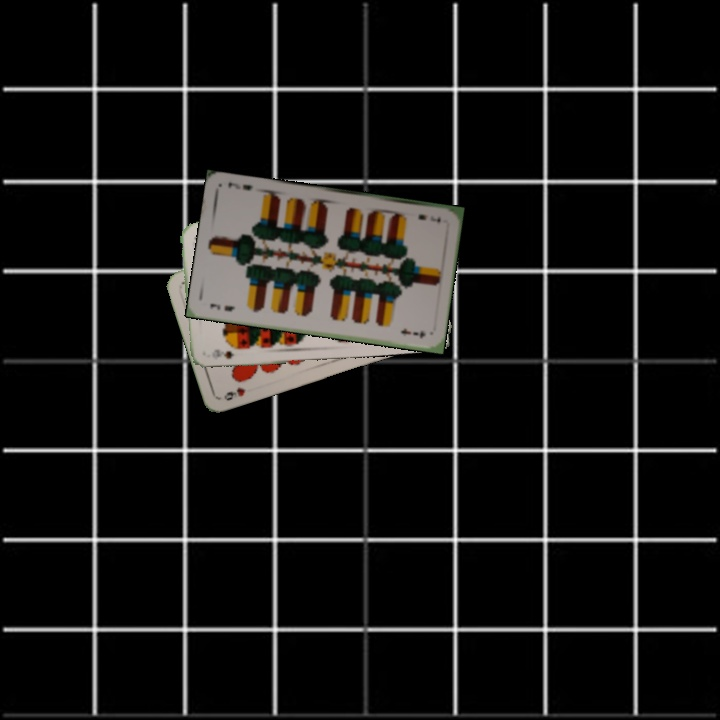E7: (206, 299, 238, 314), (414, 210, 443, 225)
H9: (220, 383, 248, 403)
S9: (208, 345, 237, 362)
